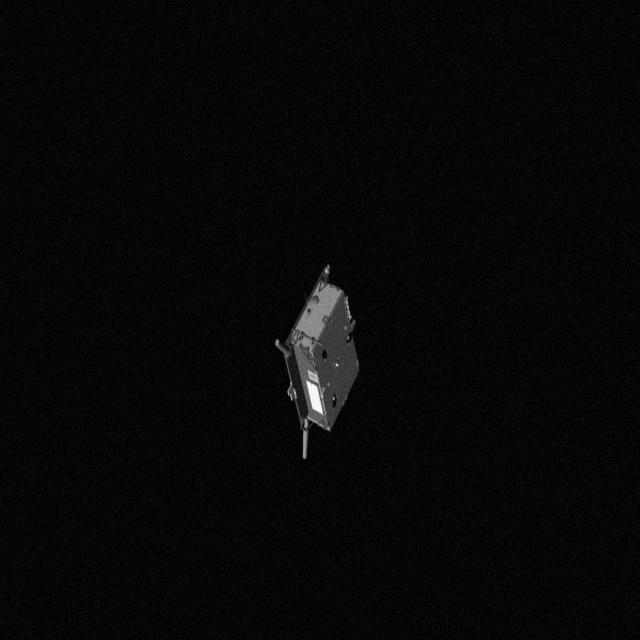medium_debris: (280, 264, 366, 466)
